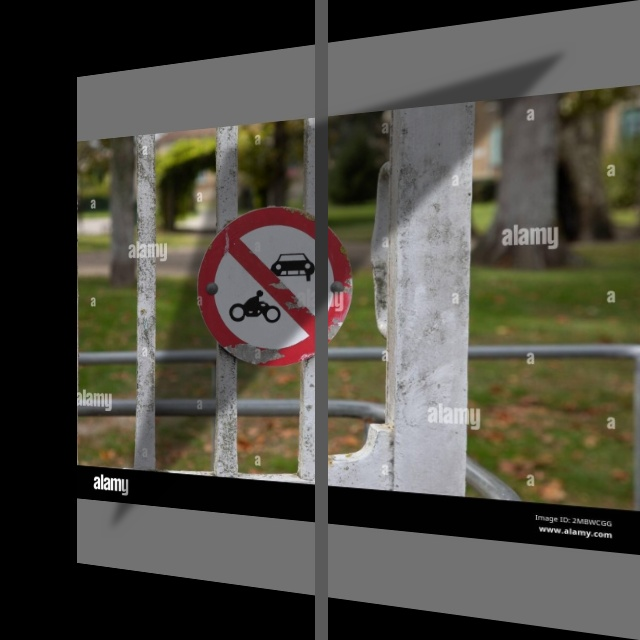All_Motor_Vehicles_Prohibited: (195, 205, 348, 370)
